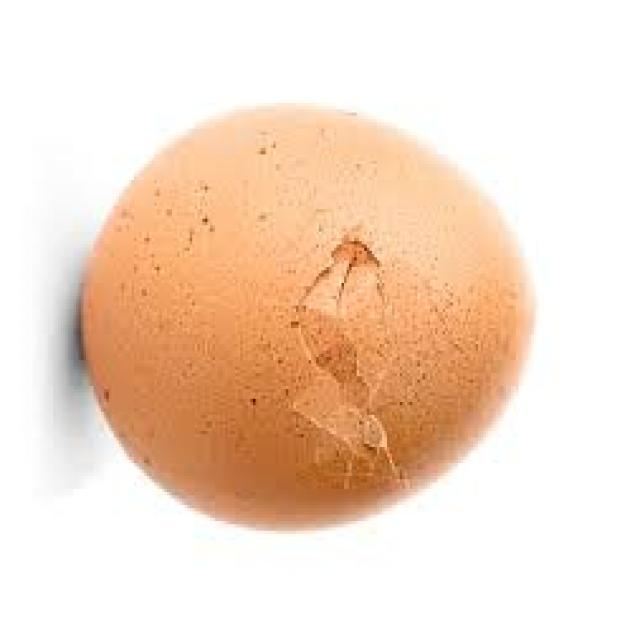biodegradable: (80, 100, 537, 530)
